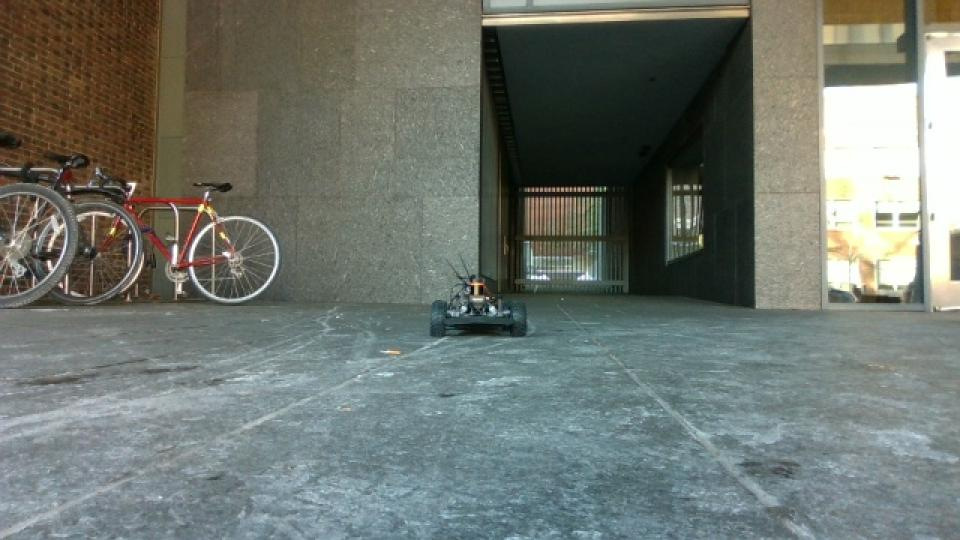car: (424, 254, 530, 341)
